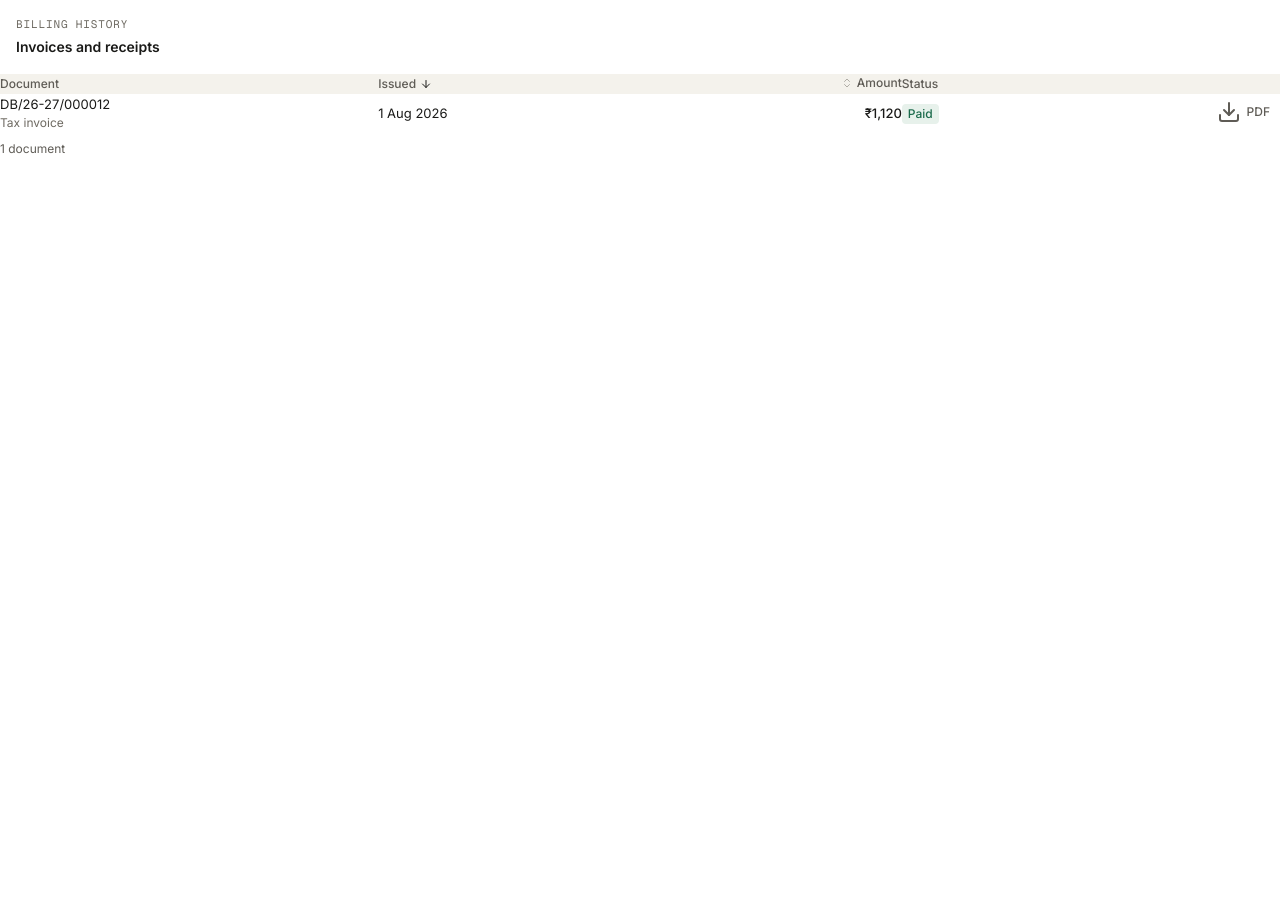
Test: the GST breakdown › says an export is zero-rated rather than showing a missing tax line
This screenshot has width=1280, height=900.
Click the button "DB/26-27/000012 Tax invoice" at (55, 113), box [0,94,110,132]
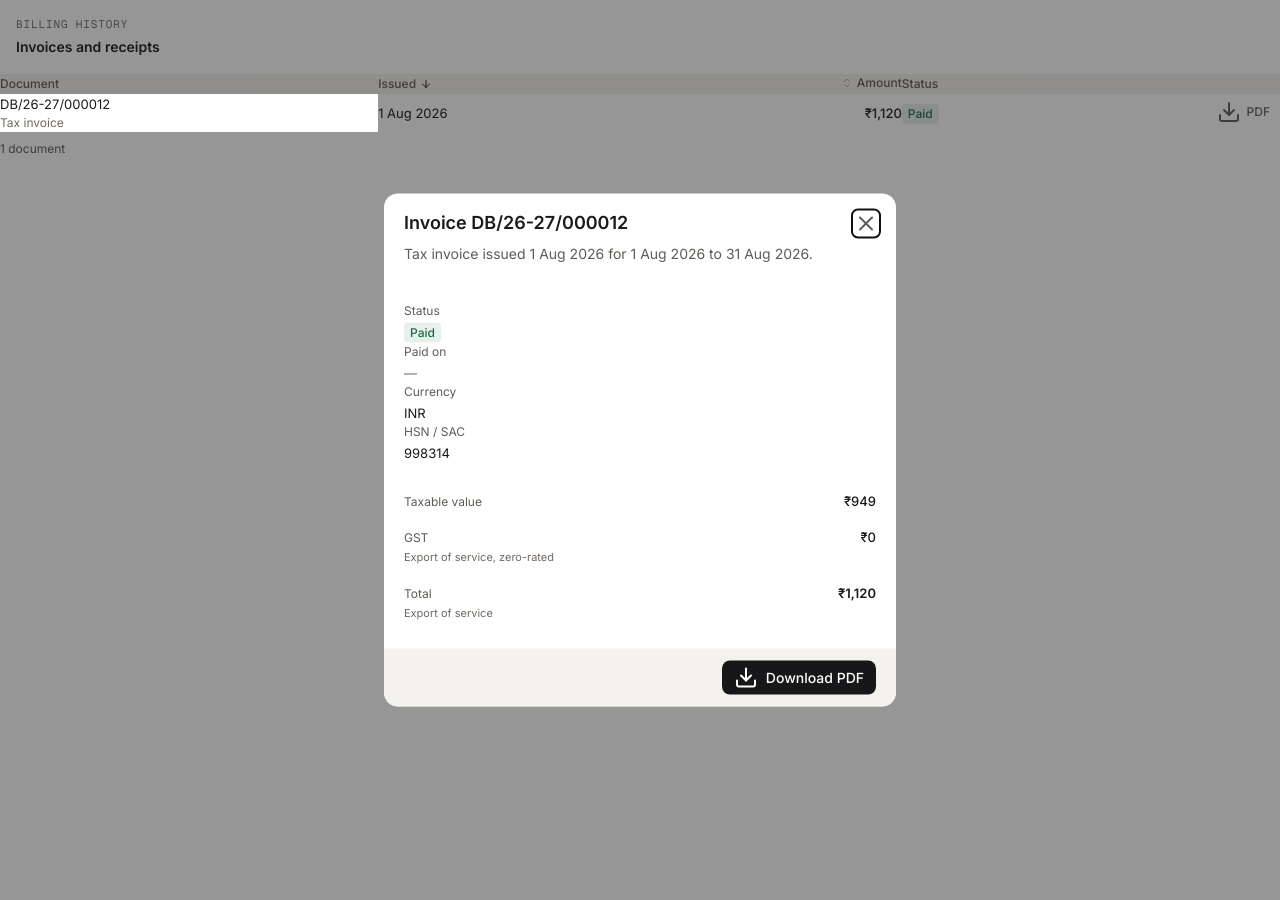
Now the text "Export of service, zero-rated" is shown, box [404,548,554,564]
